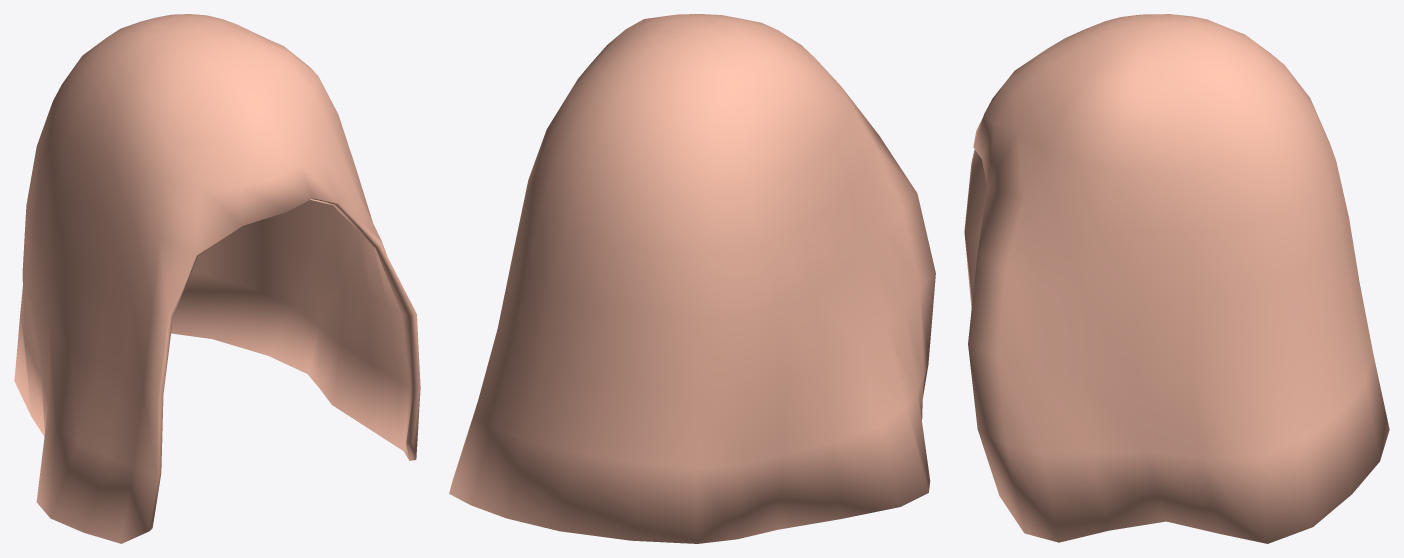
The model's file is hair2.glb.
3 views of the same model, side by side, from view 1: azimuth 30°, elevation 25°; view 2: azimuth 150°, elevation 25°; view 3: azimuth 270°, elevation 25° (orthographic). The views are drawn at different scales.
Visible parts, largest first — view 1: Short Hair; view 2: Short Hair; view 3: Short Hair.
Boxes of the visible parts, x1,y1,x2,y2 form: Short Hair: [14, 14, 420, 543]; Short Hair: [449, 14, 935, 543]; Short Hair: [964, 14, 1389, 543].
Bounding box in the file's own units: 0.5859 × 0.6784 × 0.5981.
